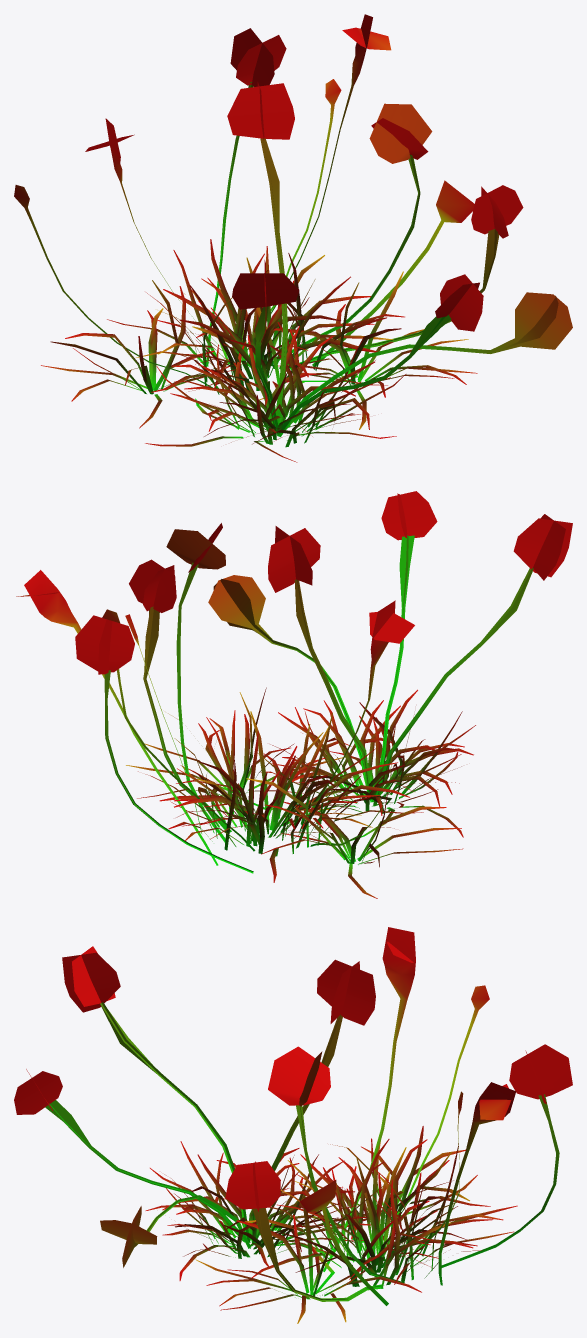
File: Var5_LOD2.fbx
The picture shows the model from 3 angles, top to bottom: view 1: azimuth 30°, elevation 25°; view 2: azimuth 150°, elevation 25°; view 3: azimuth 270°, elevation 25°; orthographic projection. The views are drawn at different scales.
Parts seen in each view (by area): view 1: _dybn_Var5_LOD2; view 2: _dybn_Var5_LOD2; view 3: _dybn_Var5_LOD2.
Boxes of the visible parts, x1,y1,x2,y2 form: _dybn_Var5_LOD2: (14,14,572,462); _dybn_Var5_LOD2: (16,491,572,898); _dybn_Var5_LOD2: (14,927,572,1323).
Bounding box in the file's own units: 27.22 × 20.63 × 33.82.
